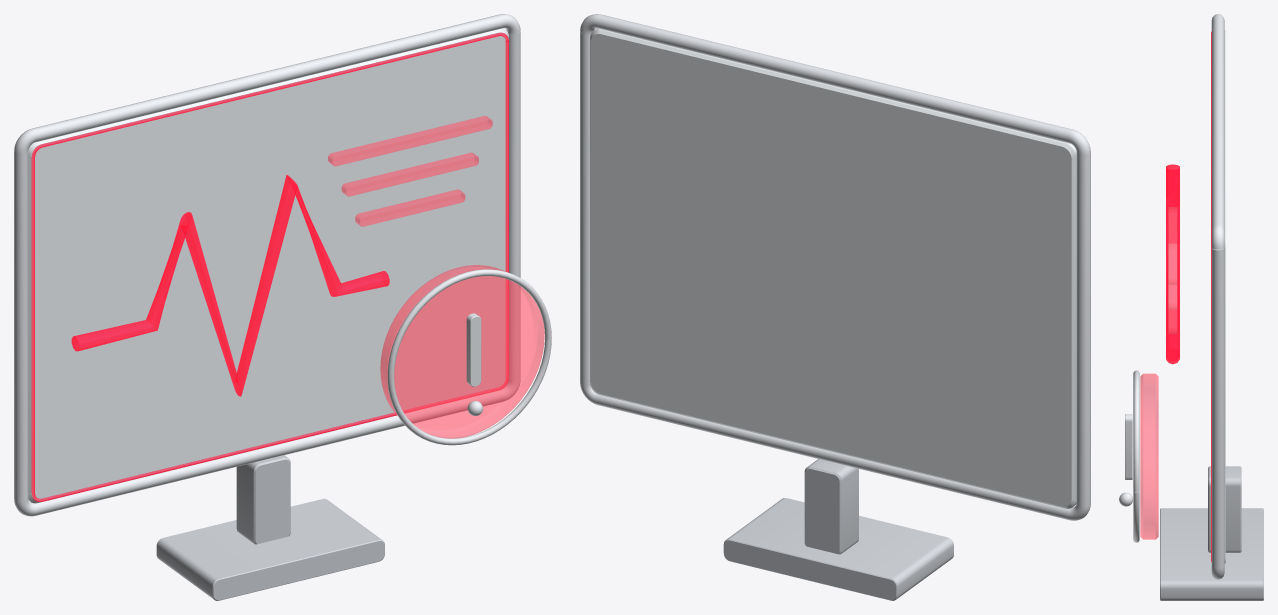
Rendered from 24-monitoring.glb.
The picture shows the model from 3 angles, left to right: view 1: azimuth 30°, elevation 25°; view 2: azimuth 150°, elevation 25°; view 3: azimuth 270°, elevation 25°; orthographic projection. The views are drawn at different scales.
Parts seen in each view (by area): view 1: BC clear optical glass, BC polished silver metal, BC ruby optical glass, BC satin silver metal, BC neon red glass edge; view 2: BC clear optical glass, BC polished silver metal, BC satin silver metal; view 3: BC polished silver metal, BC satin silver metal, BC ruby optical glass, BC neon red glass edge, BC clear optical glass.
Boxes of the visible parts, x1,y1,x2,y2 form: BC clear optical glass: (28, 28, 508, 503); BC polished silver metal: (14, 14, 551, 516); BC ruby optical glass: (328, 116, 544, 438); BC satin silver metal: (156, 455, 384, 600); BC neon red glass edge: (31, 32, 508, 501); BC clear optical glass: (590, 28, 1076, 508); BC polished silver metal: (580, 14, 1090, 520); BC satin silver metal: (723, 459, 953, 600); BC polished silver metal: (1119, 14, 1224, 579); BC satin silver metal: (1160, 466, 1263, 600); BC ruby optical glass: (1140, 207, 1177, 539); BC neon red glass edge: (1166, 31, 1211, 561); BC clear optical glass: (1224, 30, 1225, 563).
Size of the model in its own units: 2.05 by 1.89 by 0.557.
